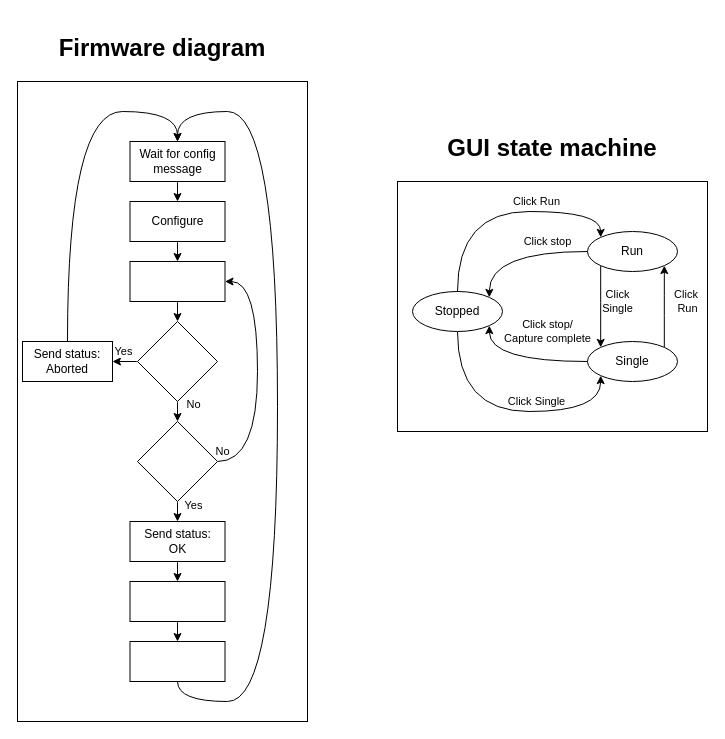
This 725x739 diagram has some shape labels left out. Here are the shapes that lost their labels. From the top down, the centre of each, then its label:
At point (177, 281): "Capture".
At point (177, 361): "Aborted?".
At point (177, 461): "Finished?".
At point (177, 601): "Send trigger index".
At point (177, 661): "Send capture buffer".
